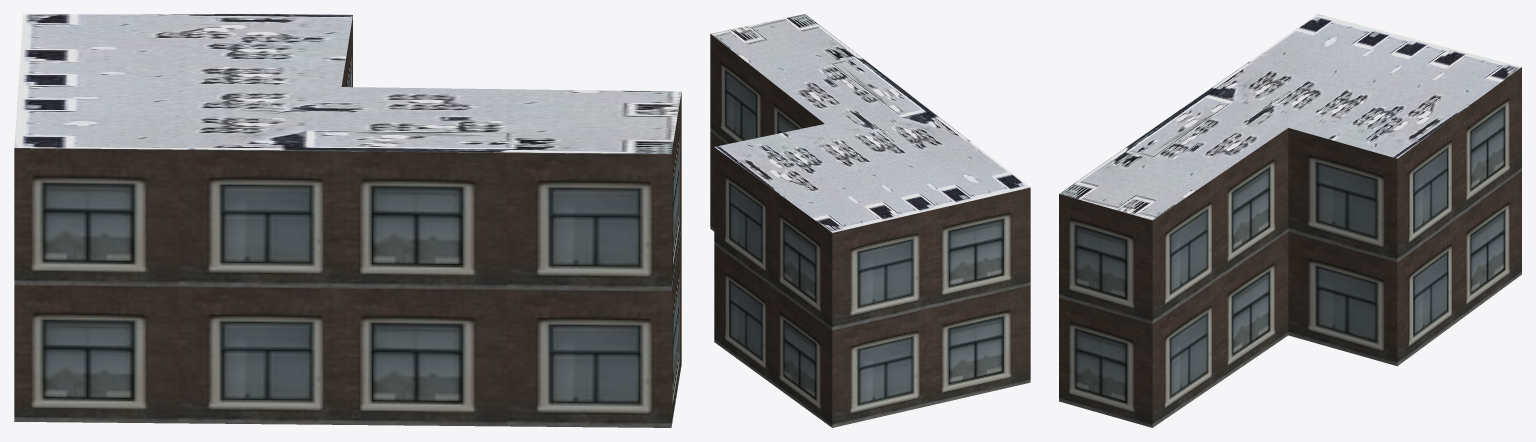
File: ResTex__2046.fbx
3 views of the same model, side by side, from view 1: azimuth 30°, elevation 25°; view 2: azimuth 150°, elevation 25°; view 3: azimuth 270°, elevation 25° (orthographic). The views are drawn at different scales.
Visible parts, largest first — view 1: CityEngineMaterial_16_m, CityEngineMaterial_15_m; view 2: CityEngineMaterial_16_m, CityEngineMaterial_15_m; view 3: CityEngineMaterial_16_m, CityEngineMaterial_15_m.
Boxes of the visible parts, x1,y1,x2,y2 form: CityEngineMaterial_16_m: (14, 16, 681, 427); CityEngineMaterial_15_m: (14, 14, 681, 153); CityEngineMaterial_16_m: (710, 34, 1030, 427); CityEngineMaterial_15_m: (711, 14, 1029, 232); CityEngineMaterial_16_m: (1059, 67, 1521, 427); CityEngineMaterial_15_m: (1059, 14, 1521, 220).
Size of the model in its own units: 12.8 by 6 by 12.13.
2 materials, 2 textured.
